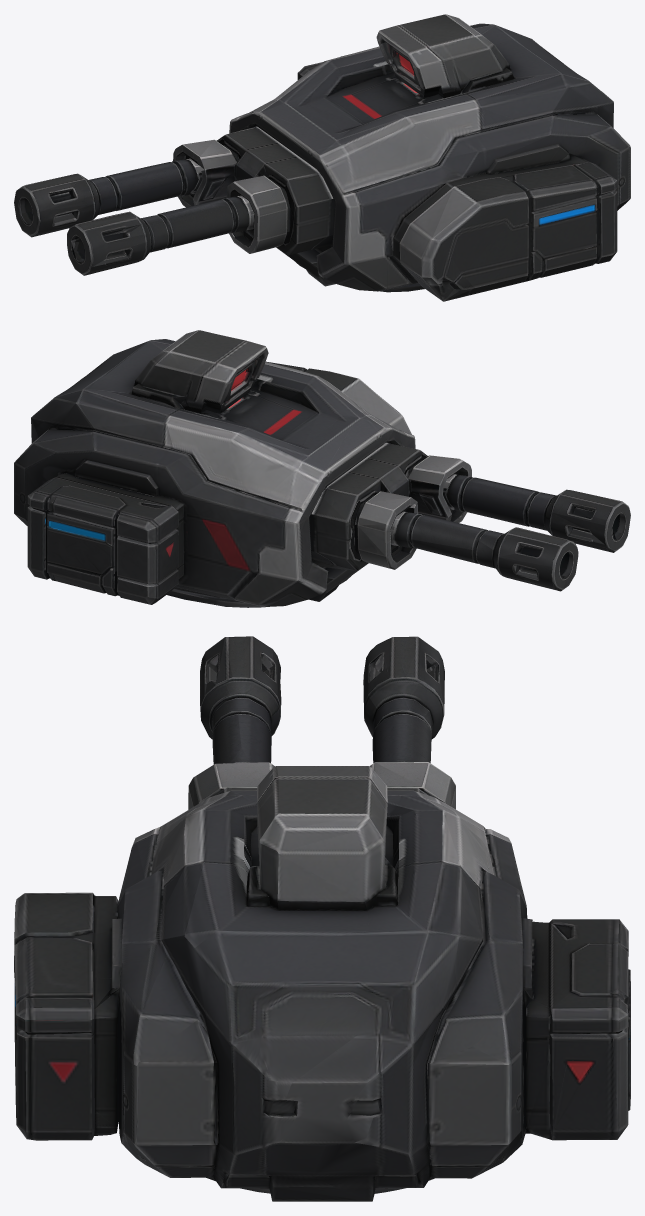
The model's file is machine_gun_upper.glb.
The picture shows the model from 3 angles, top to bottom: view 1: azimuth 30°, elevation 25°; view 2: azimuth 150°, elevation 25°; view 3: azimuth 270°, elevation 25°; orthographic projection. The views are drawn at different scales.
Visible parts, largest first — view 1: output_unwrapped; view 2: output_unwrapped; view 3: output_unwrapped.
Part boxes in pixels (x1=…): output_unwrapped: x1=14, y1=14, x2=630, y2=301; output_unwrapped: x1=14, y1=330, x2=630, y2=607; output_unwrapped: x1=14, y1=636, x2=630, y2=1201.
Size of the model in its own units: 1.9 by 0.6962 by 1.2.
1 material, 1 textured.
